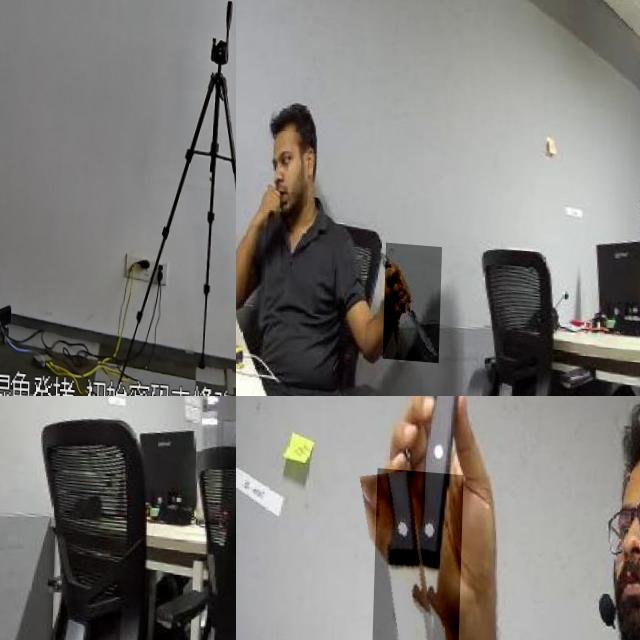-: (370, 465, 465, 640), (386, 238, 444, 358), (0, 433, 34, 499)
